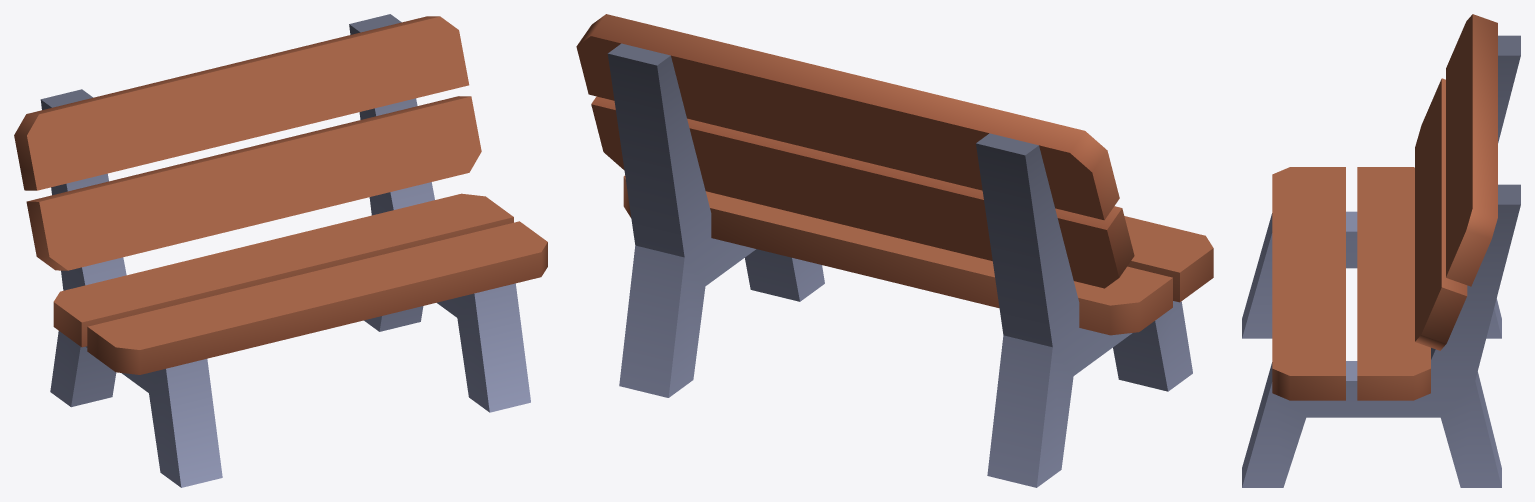
The model's file is bench.glb.
3 renders of one model, left to right at view 1: azimuth 30°, elevation 25°; view 2: azimuth 150°, elevation 25°; view 3: azimuth 270°, elevation 25°, orthographic. The views are drawn at different scales.
Visible parts, largest first — view 1: bench; view 2: bench; view 3: bench.
Boxes of the visible parts, box(x1,y1,x2,y2) form: bench: box(14, 14, 547, 487); bench: box(576, 14, 1213, 487); bench: box(1242, 14, 1520, 487).
Bounding box in the file's own units: 1.12 × 0.7305 × 0.6321.
